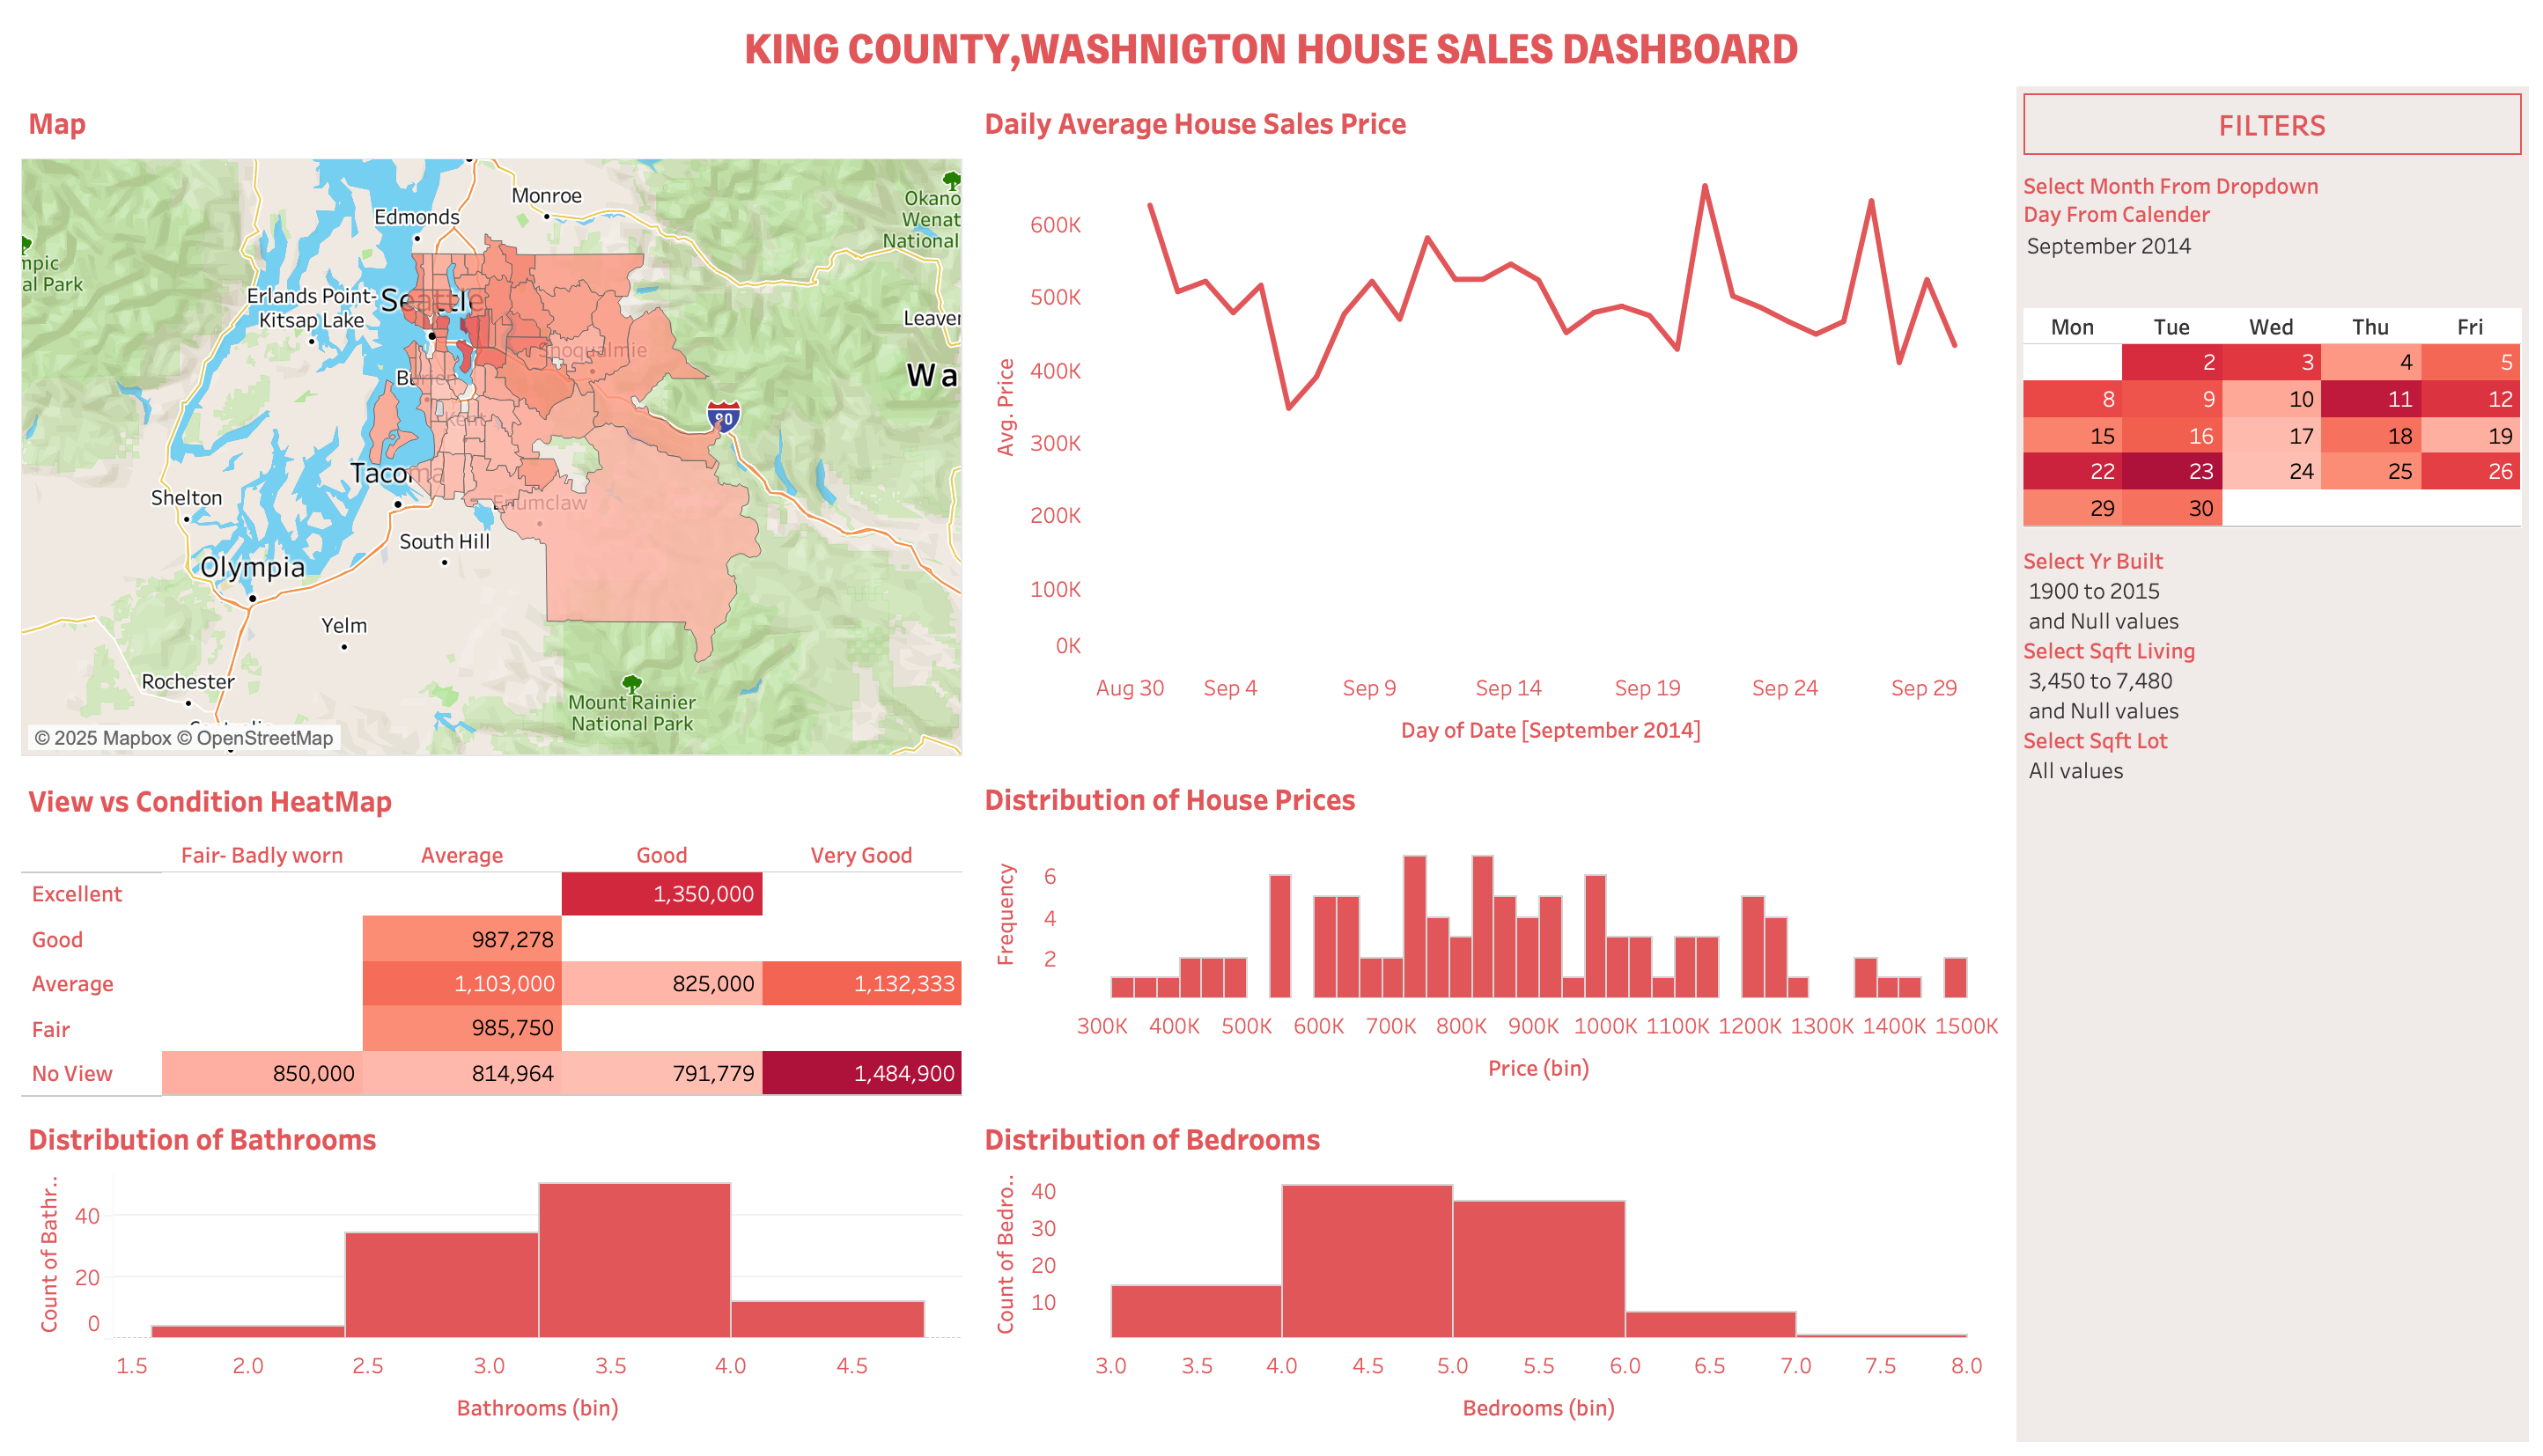

The dashboard page shown, as its layout file describes it:
{"tool":"tableau","page":{"name":"King County House Sales","canvas":[1000,1000],"units":"permille","ordinal":0},"visuals":[{"type":"text","box":[5.5,9.7,988.9,49.1]},{"type":"worksheet","title":"Map","mark":"Automatic","box":[5.5,58.8,376,465.7]},{"type":"worksheet","title":"Line Chart","mark":"Automatic","rows":["price"],"cols":["date"],"box":[381.5,58.8,411.4,465.1]},{"type":"text","box":[792.9,58.8,201.6,52]},{"type":"filter","title":"Calender","param":"[federated.01byanq1llc02d1bqbbkf18inpgc].[my:date:ok]","box":[792.9,110.8,201.6,83.4]},{"type":"blank","box":[792.9,194.2,201.6,12.1]},{"type":"worksheet","title":"Calender","mark":"Square","rows":["date"],"cols":["date"],"box":[792.9,206.3,201.6,162.5]},{"type":"filter","title":"Calender","param":"[federated.01byanq1llc02d1bqbbkf18inpgc].[none:yr_built:qk]","box":[792.9,368.8,201.6,61.7]},{"type":"filter","title":"Calender","param":"[federated.01byanq1llc02d1bqbbkf18inpgc].[none:sqft_living:qk]","box":[792.9,430.5,201.6,61.7]},{"type":"filter","title":"Calender","param":"[federated.01byanq1llc02d1bqbbkf18inpgc].[none:sqft_lot:qk]","box":[792.9,492.2,201.6,498.2]},{"type":"worksheet","title":"Hist House Prices","mark":"Automatic","rows":["price"],"cols":["Price (bin)"],"box":[381.5,523.9,411.4,233.2]},{"type":"worksheet","title":"HeatMap","mark":"Square","rows":["view"],"cols":["condition"],"box":[5.5,524.5,376,232.9]},{"type":"worksheet","title":"Hist Bedrooms","mark":"Automatic","rows":["bedrooms"],"cols":["Bedrooms (bin)"],"box":[381.5,757.1,411.4,233.2]},{"type":"worksheet","title":"Hist Bathrooms","mark":"Automatic","rows":["bathrooms"],"cols":["Bathrooms (bin)"],"box":[5.5,757.4,376,232.9]}]}

Visuals, with their boxes on the dashboard's canvas, which has no fixed pixel size, in thousandths of its width and height (x1, y1, x2, y2). These are canvas units, not pixel positions in the 2543x1456 screenshot, which may show the page scaled, cropped or inside an application window:
text: locate(6, 10, 994, 59)
"Map" worksheet: locate(6, 59, 382, 524)
"Line Chart" worksheet: locate(382, 59, 793, 524)
text: locate(793, 59, 994, 111)
"Calender" filter: locate(793, 111, 994, 194)
blank: locate(793, 194, 994, 206)
"Calender" worksheet (Square marks): locate(793, 206, 994, 369)
"Calender" filter: locate(793, 369, 994, 430)
"Calender" filter: locate(793, 430, 994, 492)
"Calender" filter: locate(793, 492, 994, 990)
"Hist House Prices" worksheet: locate(382, 524, 793, 757)
"HeatMap" worksheet (Square marks): locate(6, 524, 382, 757)
"Hist Bedrooms" worksheet: locate(382, 757, 793, 990)
"Hist Bathrooms" worksheet: locate(6, 757, 382, 990)
